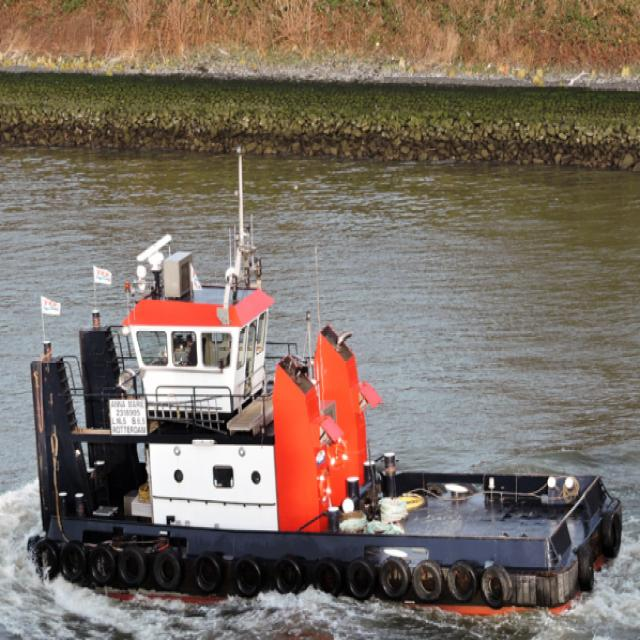tugboat: (21, 231, 627, 640)
